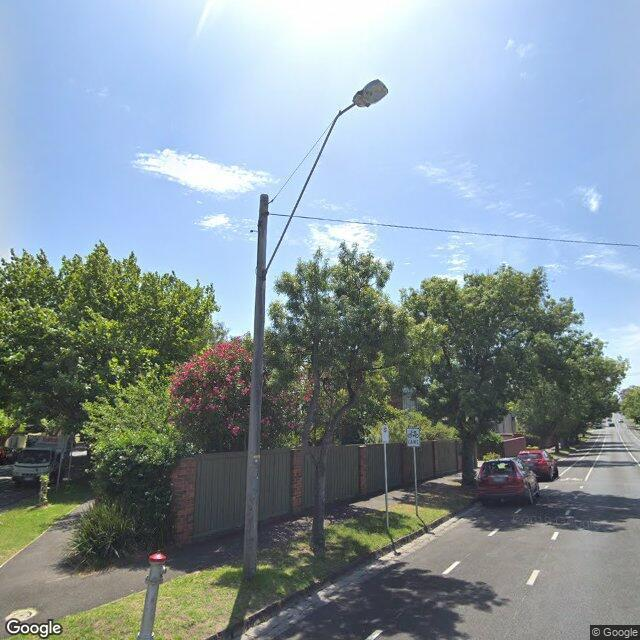streetlight: (261, 79, 389, 281)
timber-pole: (243, 194, 268, 582)
